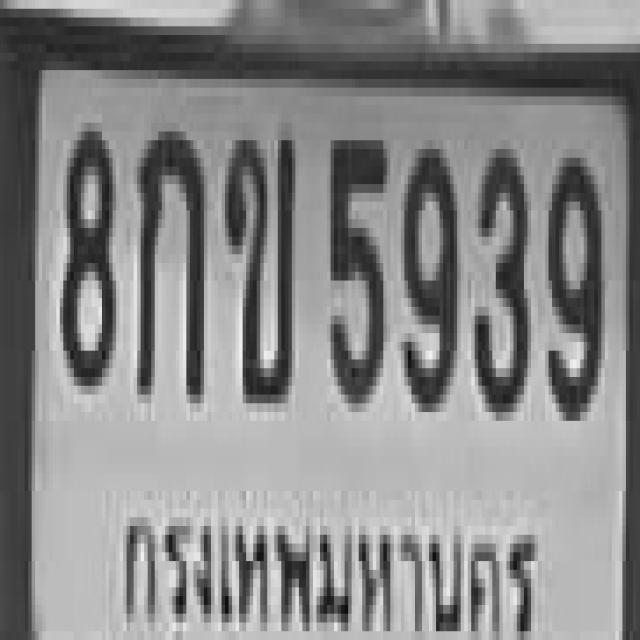10GorGai: (132, 118, 202, 390)
11KhorKhai: (221, 123, 292, 394)
3: (471, 136, 528, 408)
5: (327, 127, 383, 399)
8: (60, 114, 112, 377)
9: (401, 140, 454, 404), (545, 149, 598, 412)
Bangkok: (116, 496, 540, 640)
